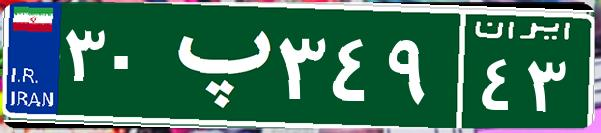0: (110, 28, 158, 105)
3: (273, 28, 330, 110), (57, 26, 110, 107), (525, 38, 570, 115)
4: (330, 28, 385, 110), (475, 38, 525, 113)
9: (385, 28, 445, 110)
پ: (158, 15, 273, 115)
